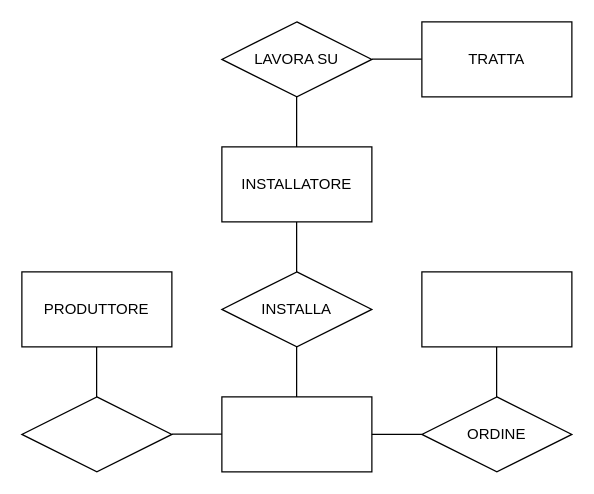
This 594x494 diagram has some shape labels left out. Each missing label, with the centre of its shape:
"CLIENTE" belongs at pixel 496 309.
"PRODOTTO" belongs at pixel 296 434.
"PRODUCE" belongs at pixel 96 434.
